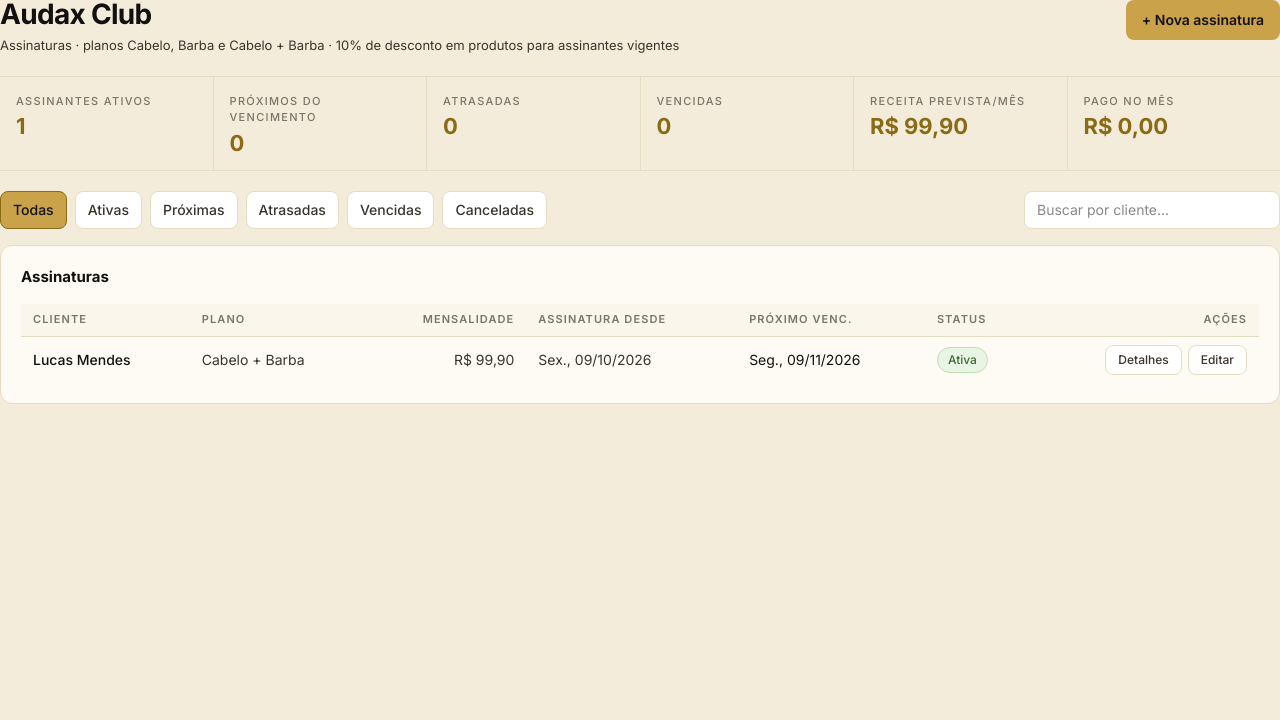
Audax Club — página › não oferece cliente que já tem assinatura em andamento
Click the button "+ Nova assinatura" at {"x": 1203, "y": 20}, box [1126,0,1279,40]
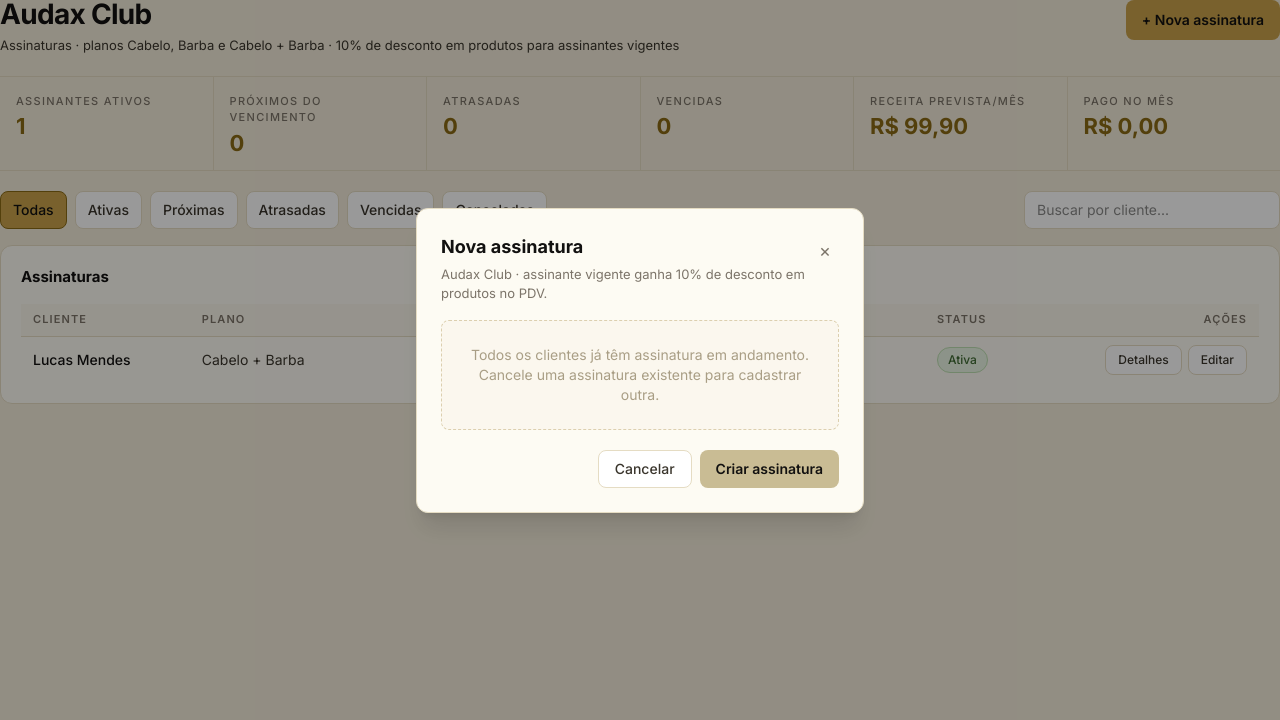
Check: the text "Todos os clientes já têm assinatura em andamento" is shown, box [471,346,809,402]
Check: the button "Criar assinatura" is disabled, box [700,450,839,488]
